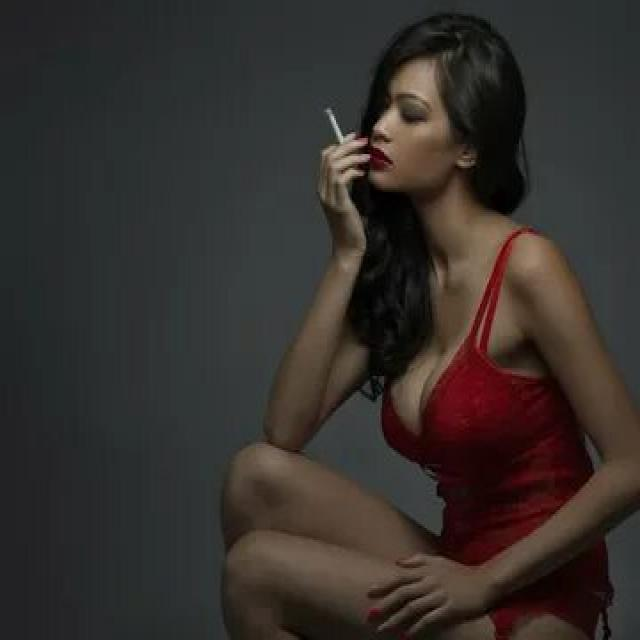smoke: (324, 104, 354, 148)
